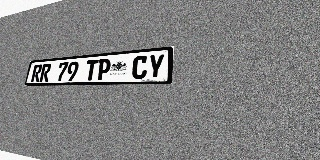plate: (24, 46, 174, 86)
